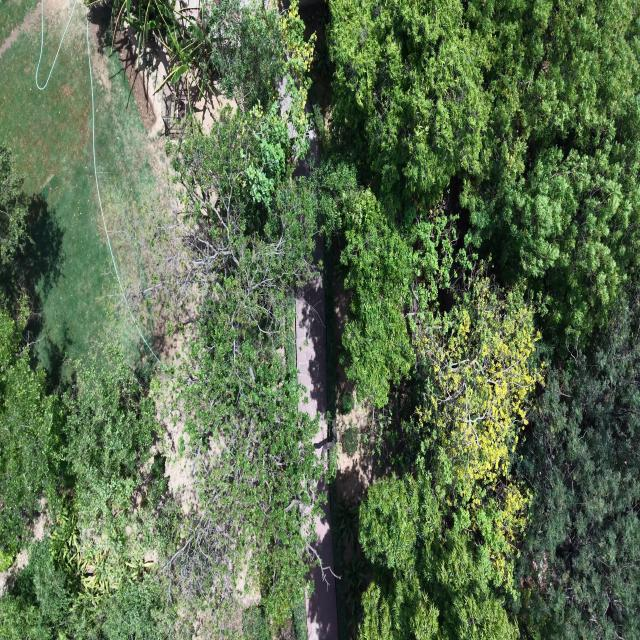DRY_AREA: (0, 0, 139, 372), (330, 268, 388, 639), (296, 275, 332, 454), (336, 362, 379, 506), (0, 0, 40, 57), (0, 0, 37, 55)
VEGETATION_TREE: (0, 0, 639, 639), (0, 6, 325, 638), (324, 0, 639, 637), (330, 0, 639, 342), (170, 102, 323, 626), (359, 272, 541, 639), (461, 0, 639, 343), (0, 308, 172, 639), (0, 0, 138, 386), (516, 288, 639, 638), (414, 272, 542, 589), (330, 0, 491, 223), (313, 160, 454, 407), (359, 476, 517, 639), (316, 165, 413, 406), (113, 0, 314, 110), (0, 541, 170, 639), (0, 301, 61, 570), (0, 145, 27, 263)
